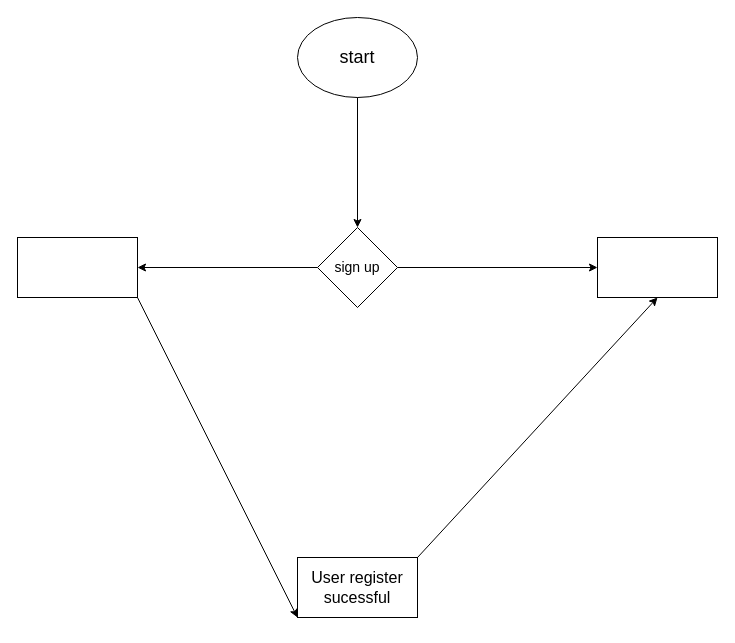
Image size: 735x643. Some labels were removed from this diagram. The centre of each missing label's shape, as x and y in pixels:
"Login" goes at [657,267].
"Register" goes at [77,267].
